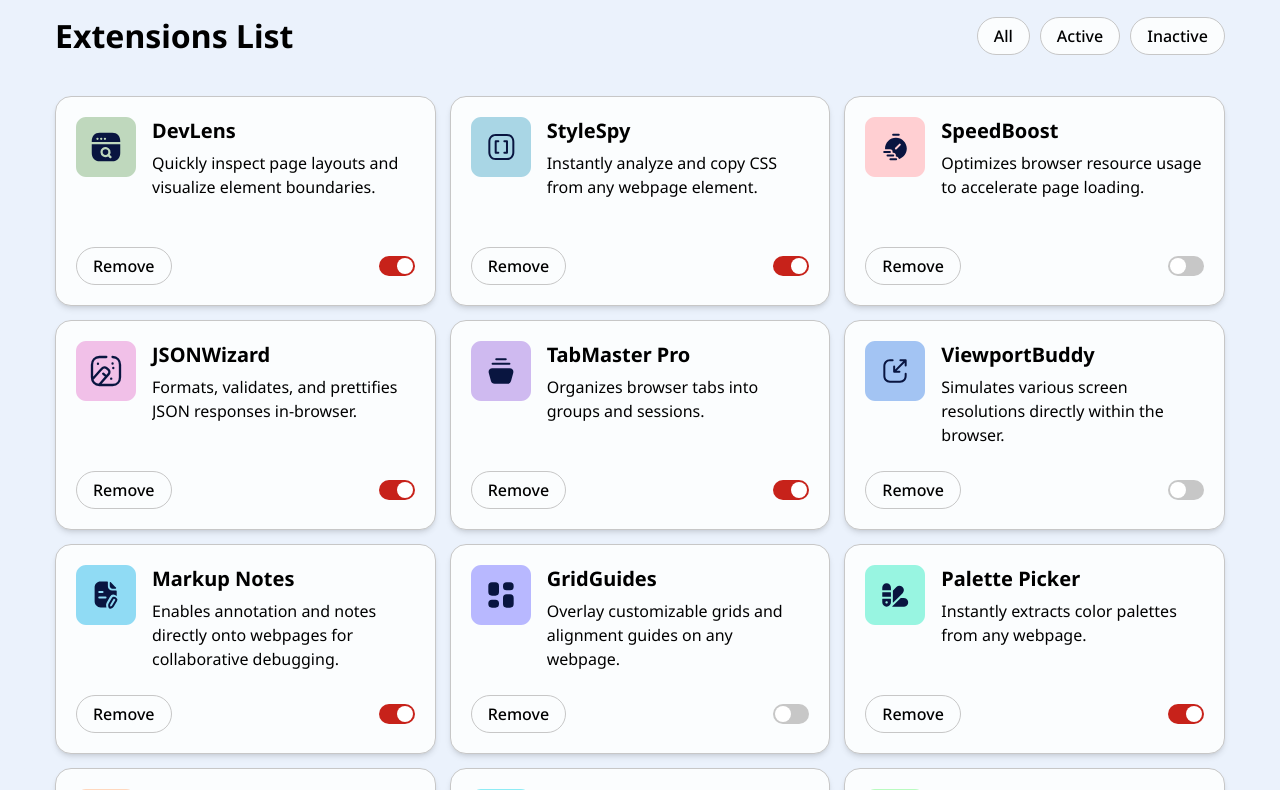
it: Filters › should show all extensions again
Click the button "Active". click: click(1080, 36)
box: [1040, 17, 1120, 55]
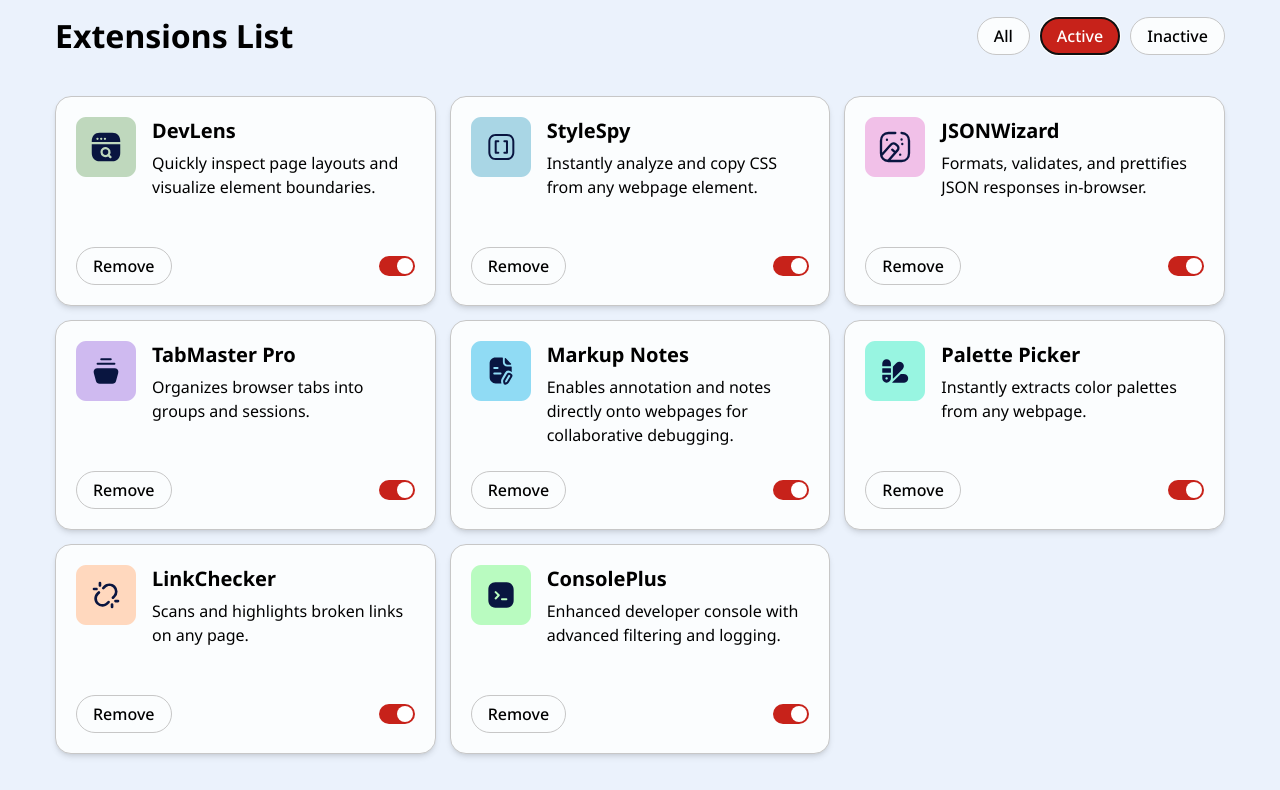
Click the button "All". click: click(1003, 36)
box: [977, 17, 1030, 55]
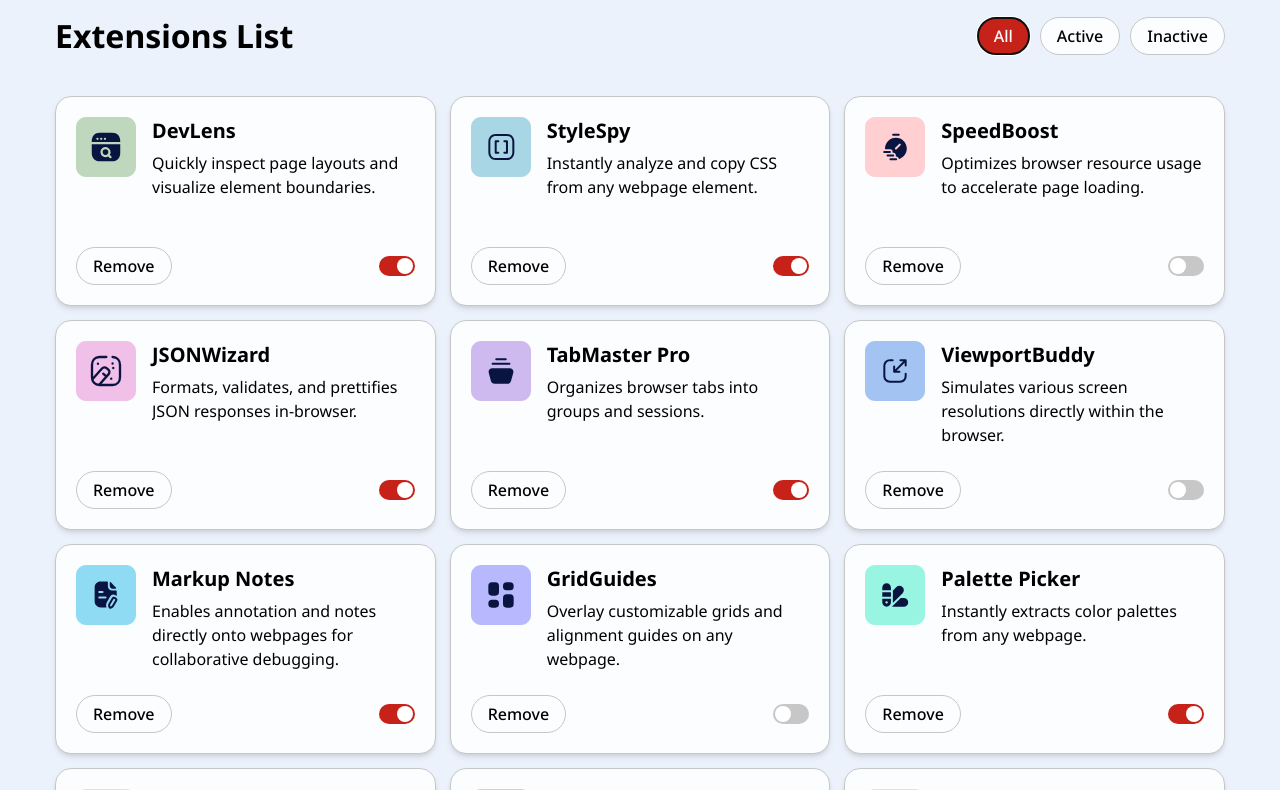
expect the number of list items is 12: met
